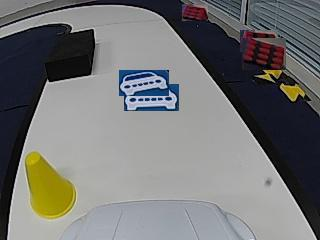block: (45, 29, 94, 82)
cone: (23, 152, 76, 219)
